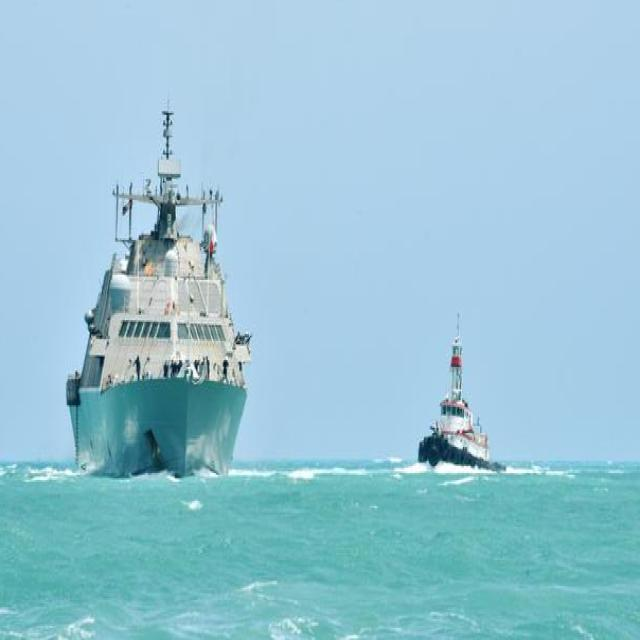navalvessels: (66, 94, 252, 467), (414, 320, 503, 474)
